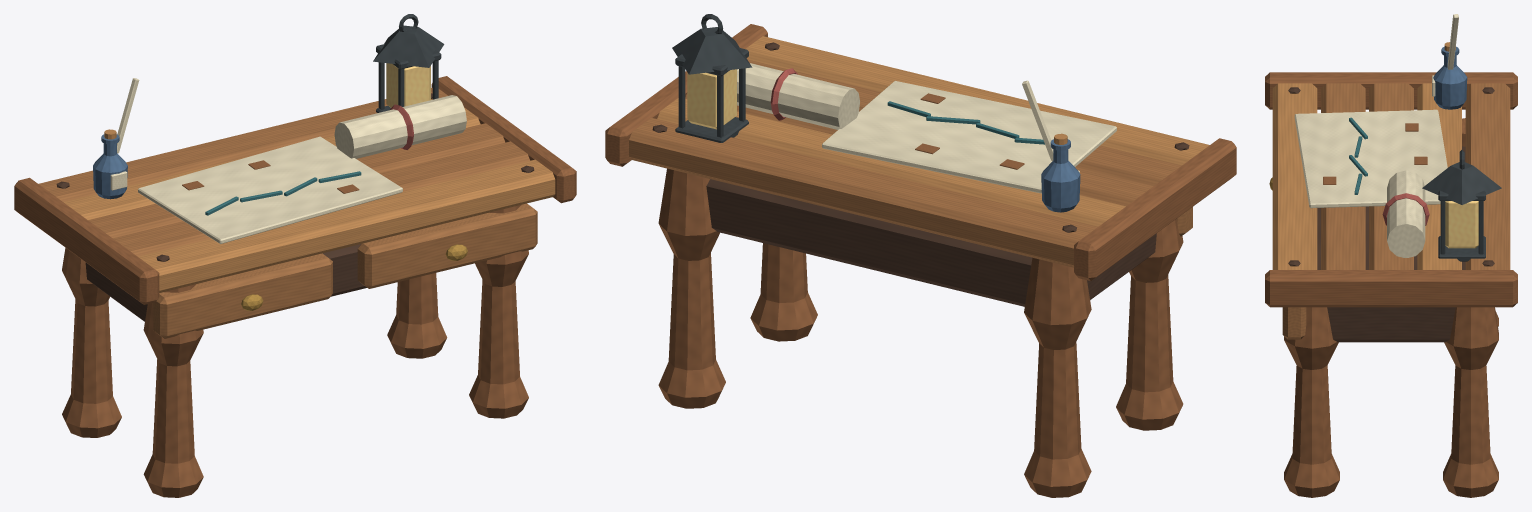
File: desk_cartographer.glb
The picture shows the model from 3 angles, left to right: view 1: azimuth 30°, elevation 25°; view 2: azimuth 150°, elevation 25°; view 3: azimuth 270°, elevation 25°; orthographic projection. The views are drawn at different scales.
Parts seen in each view (by area): view 1: desk_cartographer; view 2: desk_cartographer; view 3: desk_cartographer.
Part boxes in pixels (bbox=[...]): desk_cartographer: bbox=[14, 14, 576, 497]; desk_cartographer: bbox=[605, 14, 1236, 497]; desk_cartographer: bbox=[1265, 14, 1517, 497].
Size of the model in its own units: 1.66 by 1.26 by 0.86.
Materials: 1 (1 with a texture image).
